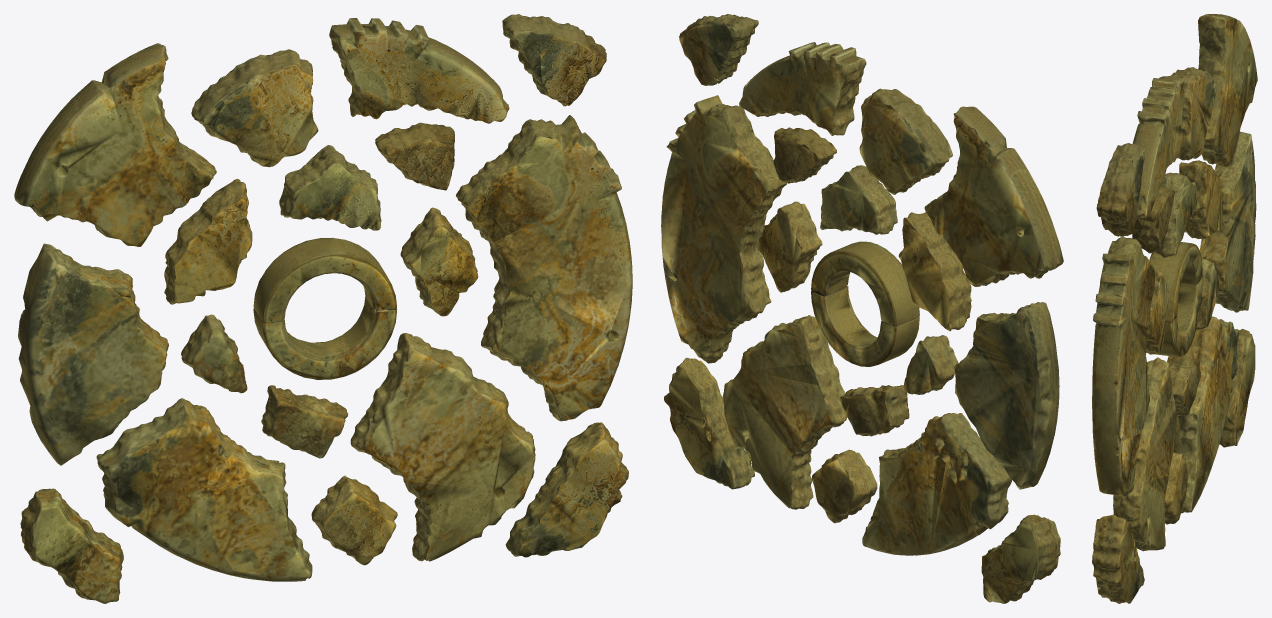
File: 12-jade-fragment.glb
3 renders of one model, left to right at view 1: azimuth 30°, elevation 25°; view 2: azimuth 150°, elevation 25°; view 3: azimuth 270°, elevation 25°, orthographic. The views are drawn at different scales.
Visible parts, largest first — view 1: Meshy_AI_Shattered_Jade_Sun_0817194809_texture; view 2: Meshy_AI_Shattered_Jade_Sun_0817194809_texture; view 3: Meshy_AI_Shattered_Jade_Sun_0817194809_texture.
Part boxes in pixels (x1,y1,x2,y2): Meshy_AI_Shattered_Jade_Sun_0817194809_texture: (14,14,632,603); Meshy_AI_Shattered_Jade_Sun_0817194809_texture: (661,14,1063,603); Meshy_AI_Shattered_Jade_Sun_0817194809_texture: (1092,14,1257,603).
Bounding box in the file's own units: 0.6687 × 0.6596 × 0.2197.
1 material, 1 textured.
